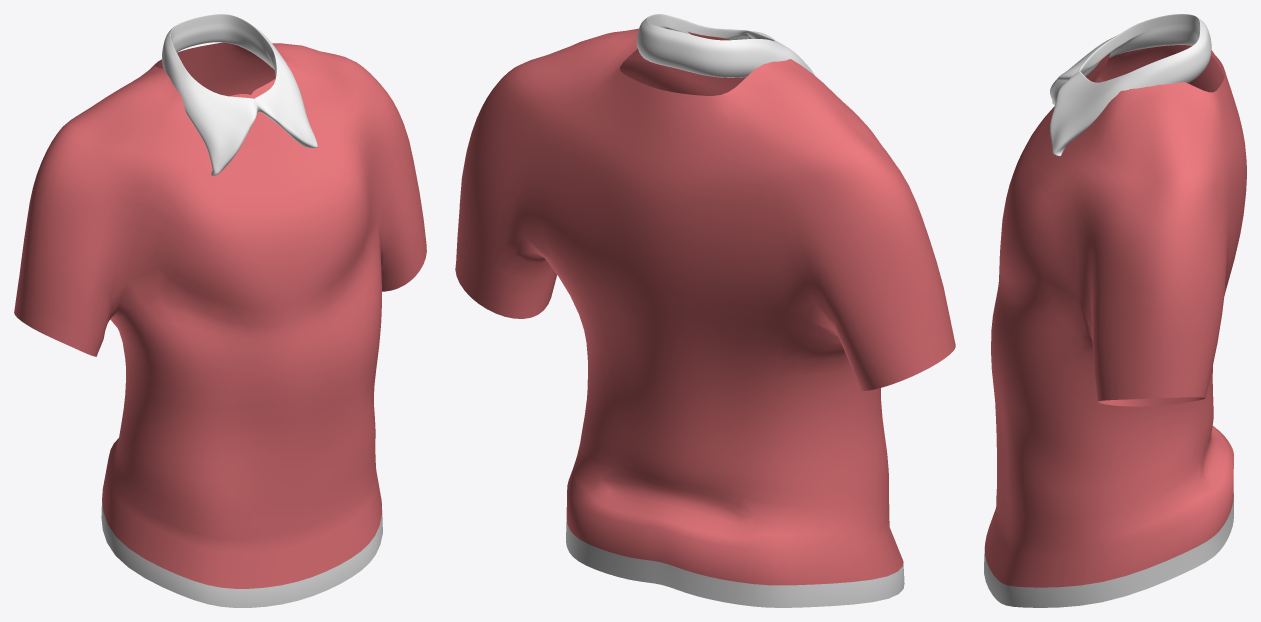
3 views of the same model, side by side, from view 1: azimuth 30°, elevation 25°; view 2: azimuth 150°, elevation 25°; view 3: azimuth 270°, elevation 25° (orthographic). The views are drawn at different scales.
Parts seen in each view (by area): view 1: face.002, collar in; view 2: face.002, collar in; view 3: face.002, collar in.
Boxes of the visible parts, left/top/right/bottom form: face.002: left=14, top=42, right=426, bottom=607; collar in: left=162, top=14, right=317, bottom=175; face.002: left=455, top=28, right=955, bottom=607; collar in: left=636, top=14, right=814, bottom=77; face.002: left=984, top=45, right=1246, bottom=607; collar in: left=1050, top=14, right=1211, bottom=156.
Size of the model in its own units: 0.4729 by 0.5775 by 0.252.
